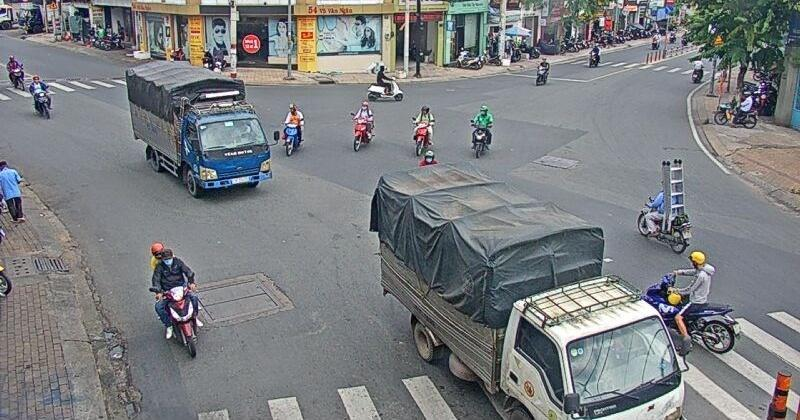xe may: (646, 251, 740, 353), (148, 242, 203, 357), (636, 182, 691, 254), (367, 64, 404, 101), (350, 100, 374, 151), (412, 105, 435, 157), (470, 105, 492, 158), (282, 103, 303, 156), (29, 75, 51, 119)
xe tai: (379, 164, 685, 420), (125, 62, 275, 193)
